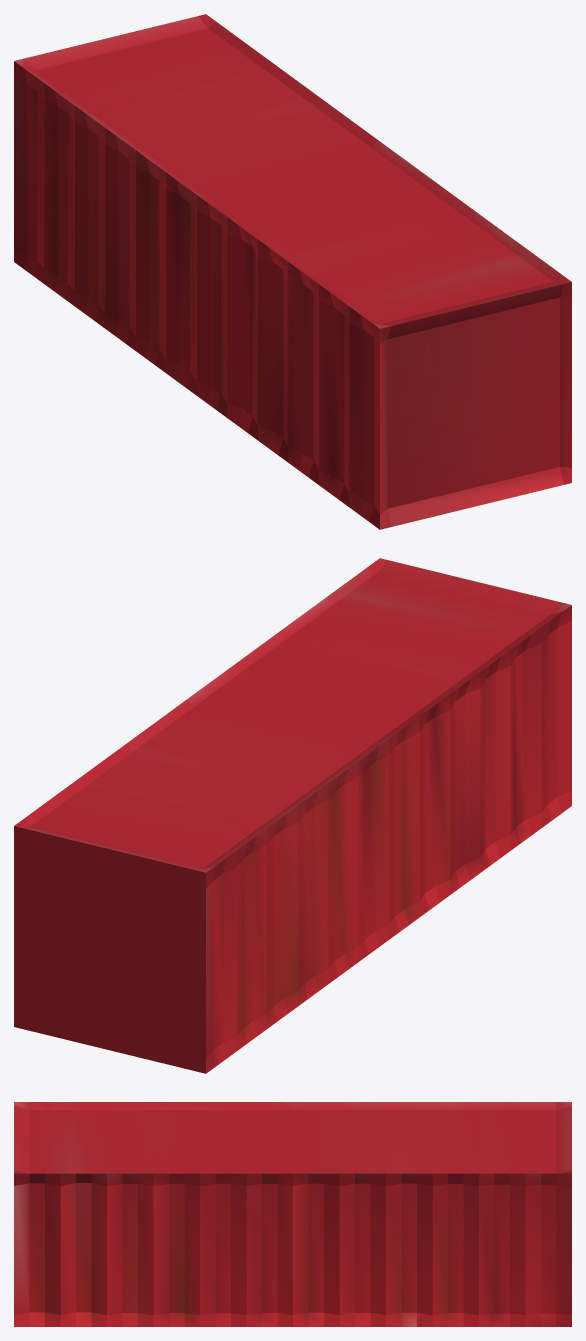
3 views of the same model, one above another, from view 1: azimuth 30°, elevation 25°; view 2: azimuth 150°, elevation 25°; view 3: azimuth 270°, elevation 25° (orthographic). The views are drawn at different scales.
Visible parts, largest first — view 1: Cube; view 2: Cube; view 3: Cube.
Boxes of the visible parts, x1,y1,x2,y2 form: Cube: (14, 14, 571, 529); Cube: (14, 558, 571, 1073); Cube: (14, 1102, 571, 1326).
Size of the model in its own units: 568 by 568 by 1874.
